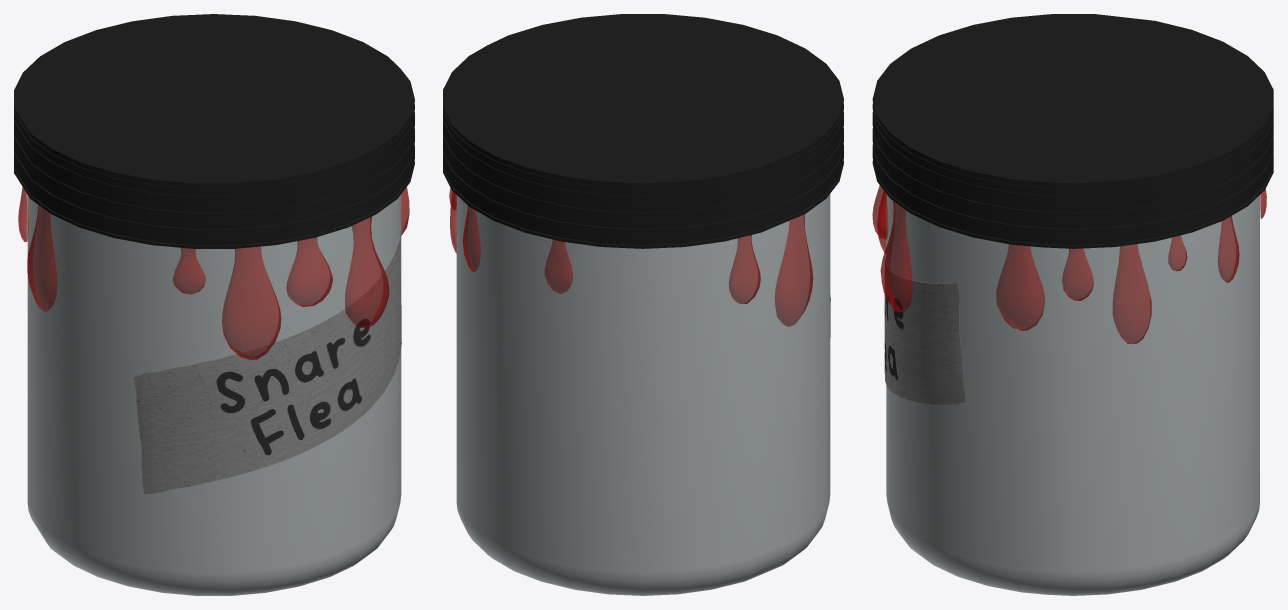
File: GenericSample.fbx
3 views of the same model, side by side, from view 1: azimuth 30°, elevation 25°; view 2: azimuth 150°, elevation 25°; view 3: azimuth 270°, elevation 25° (orthographic).
Visible parts, largest first — view 1: Jar, Lid, Tape, Ooze; view 2: Jar, Lid, Ooze; view 3: Jar, Lid, Ooze, Tape.
Part boxes in pixels (bbox=[...]): Jar: bbox=[27, 194, 401, 595]; Lid: bbox=[14, 14, 414, 248]; Tape: bbox=[134, 233, 401, 494]; Ooze: bbox=[18, 187, 409, 360]; Jar: bbox=[456, 194, 830, 595]; Lid: bbox=[443, 14, 843, 248]; Ooze: bbox=[449, 188, 813, 326]; Jar: bbox=[886, 194, 1259, 595]; Lid: bbox=[872, 14, 1273, 248]; Ooze: bbox=[872, 185, 1266, 344]; Tape: bbox=[884, 259, 965, 404].
Size of the model in its own units: 235 by 277 by 235.
